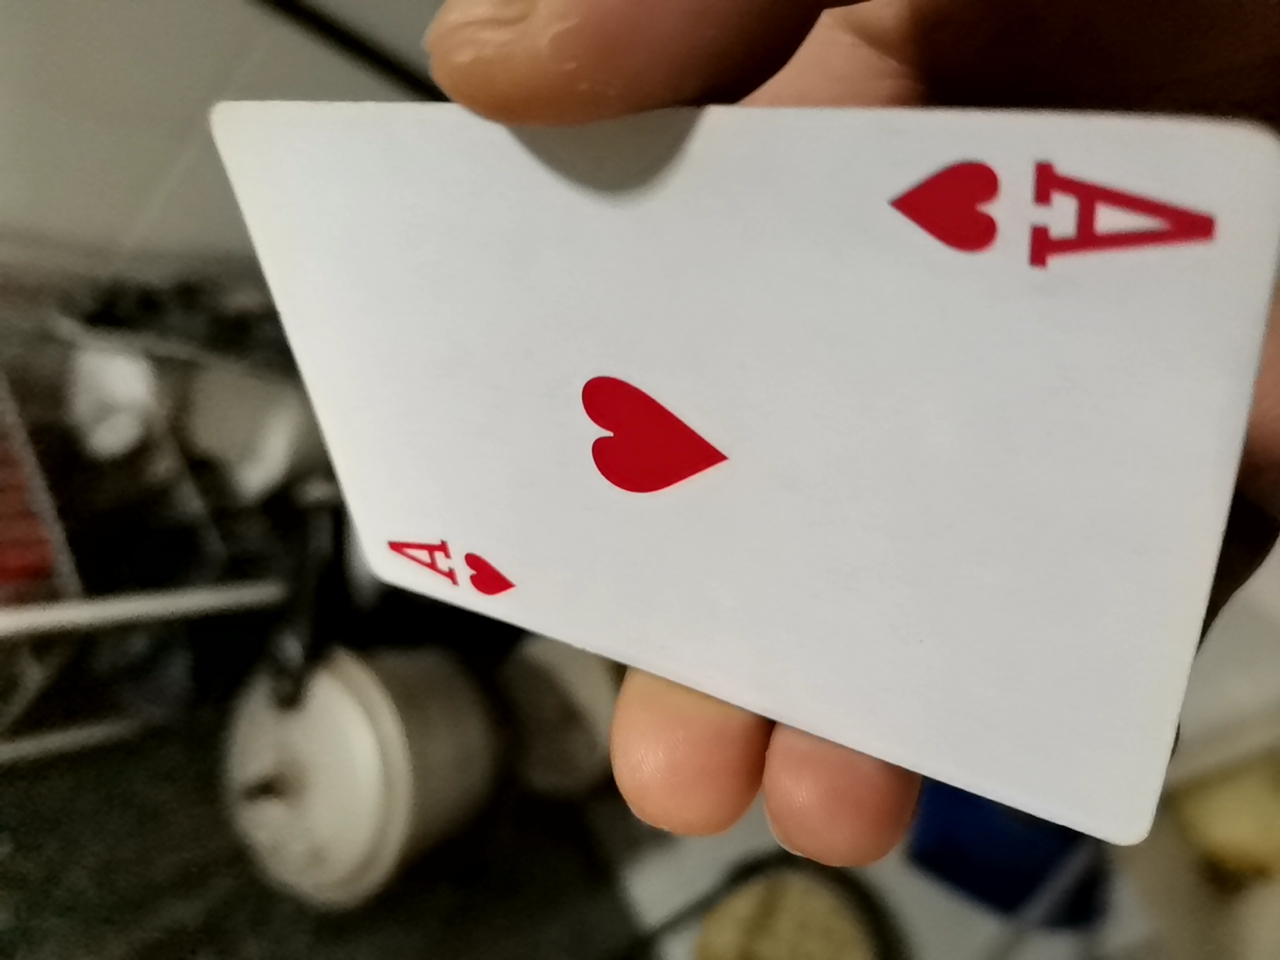hx a: (198, 91, 1264, 882)
